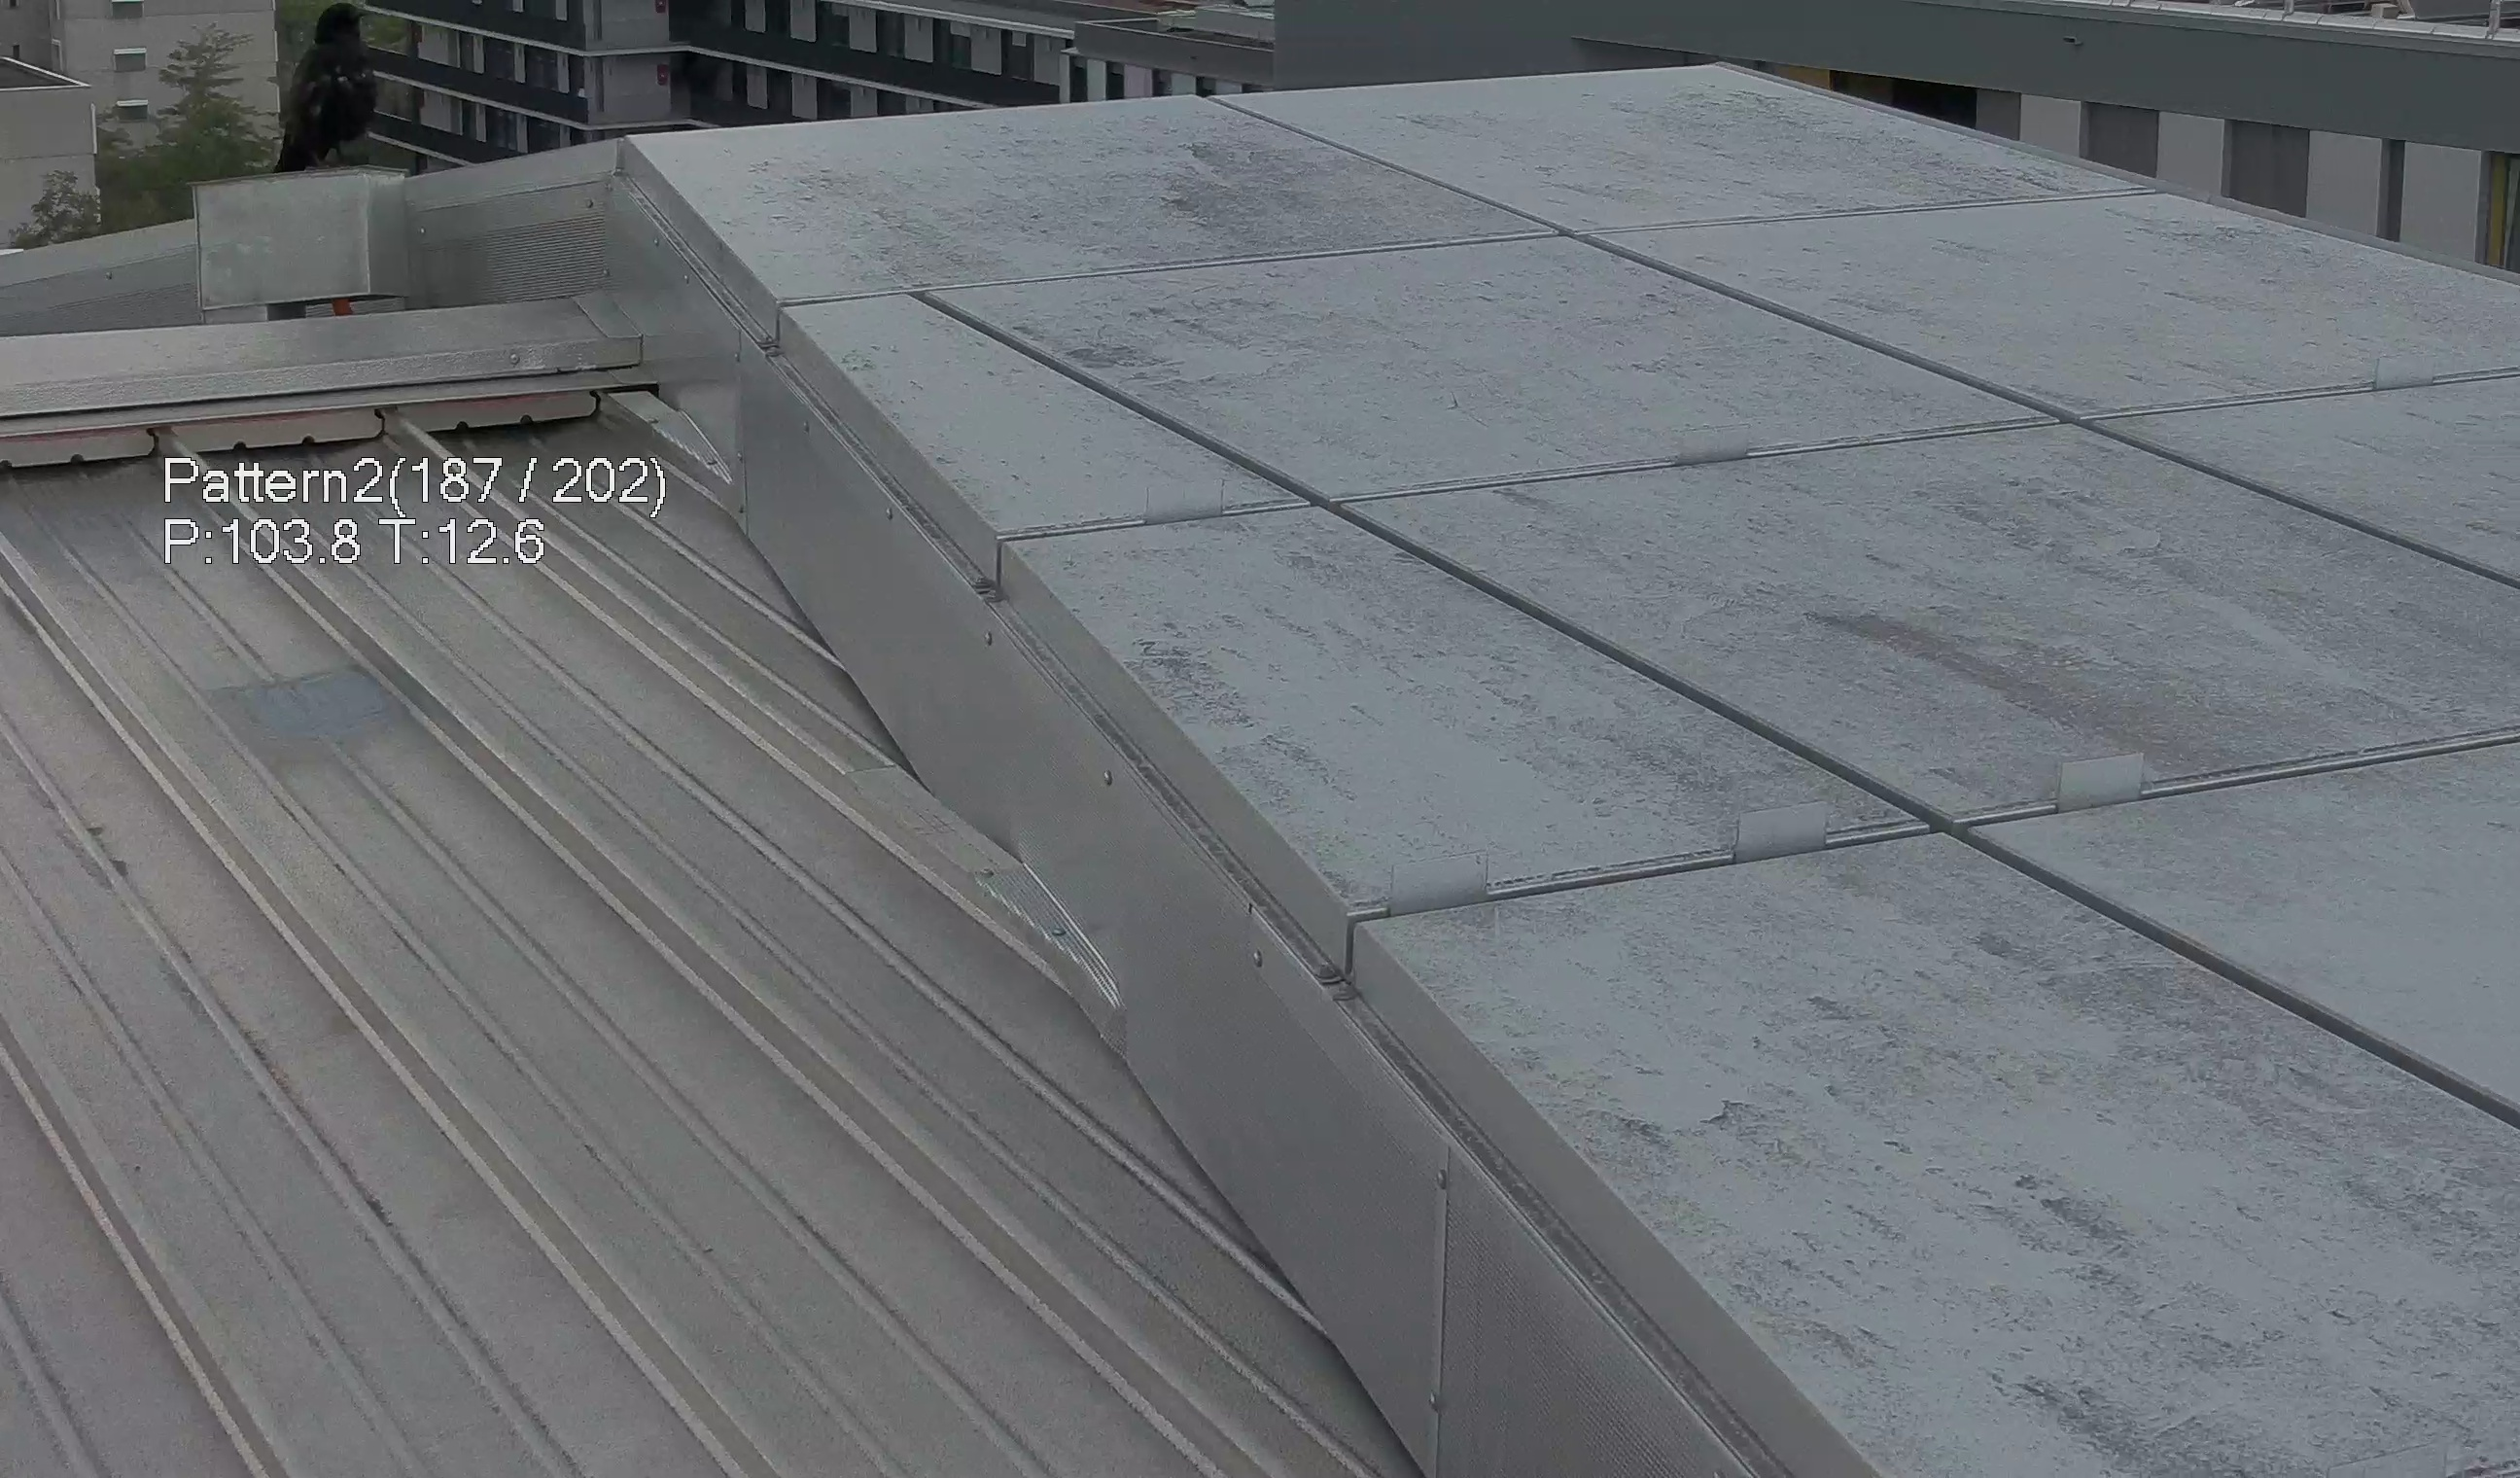Other: (269, 0, 382, 171)
